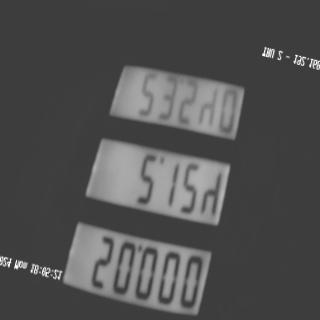screen: (53, 17, 270, 320)
